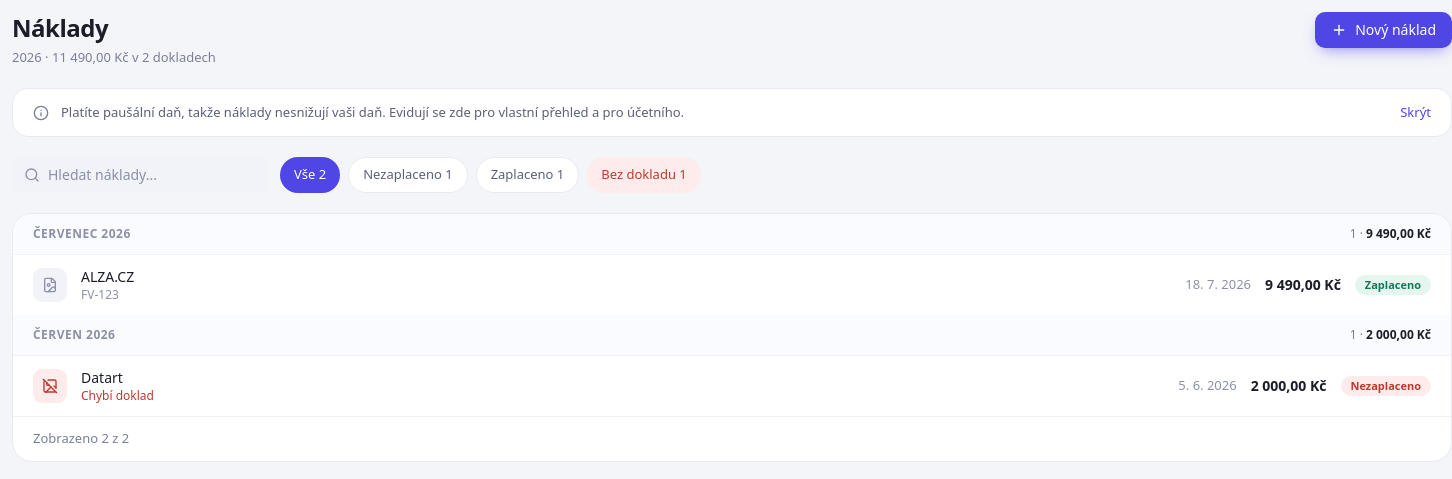
Expenses › filters by the no-receipt chip with a live count
Expected: the text "ALZA.CZ" is shown, [81, 267, 134, 286]
Click the button "Bez dokladu 1". click: (644, 175)
box: [587, 157, 701, 193]
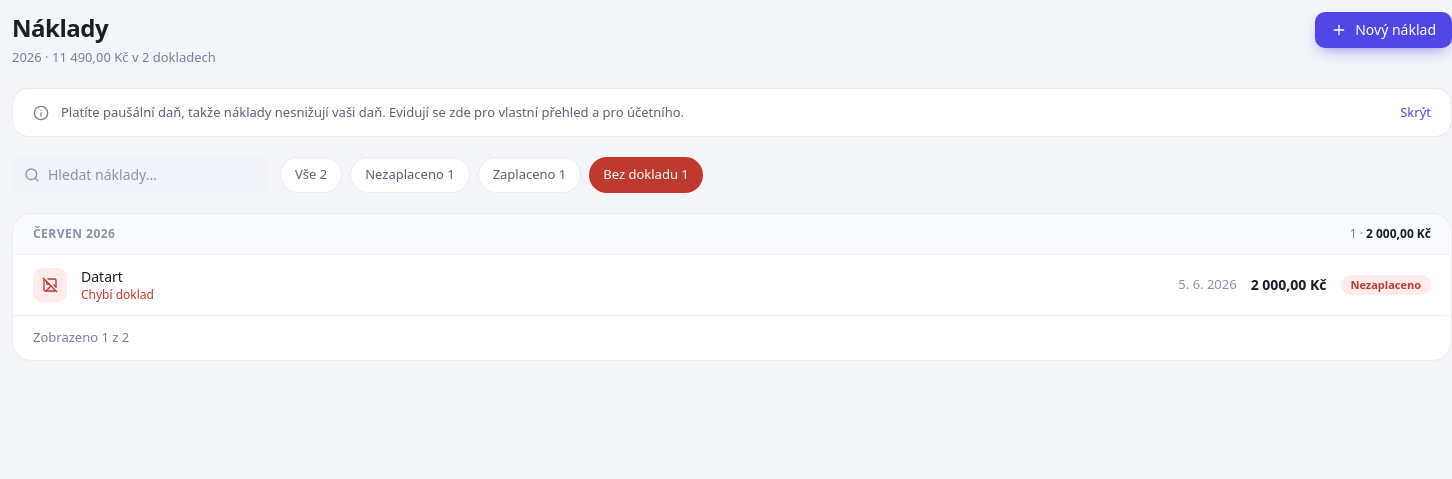
Expected: the text "Datart" is shown, [81, 267, 123, 286]
Expected: the link "ALZA.CZ" is gone
